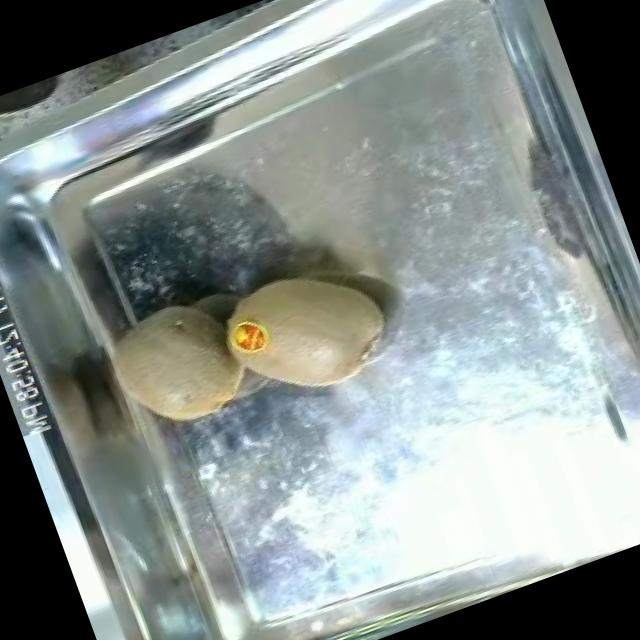Fruit: (200, 236, 410, 423), (88, 274, 266, 453)
